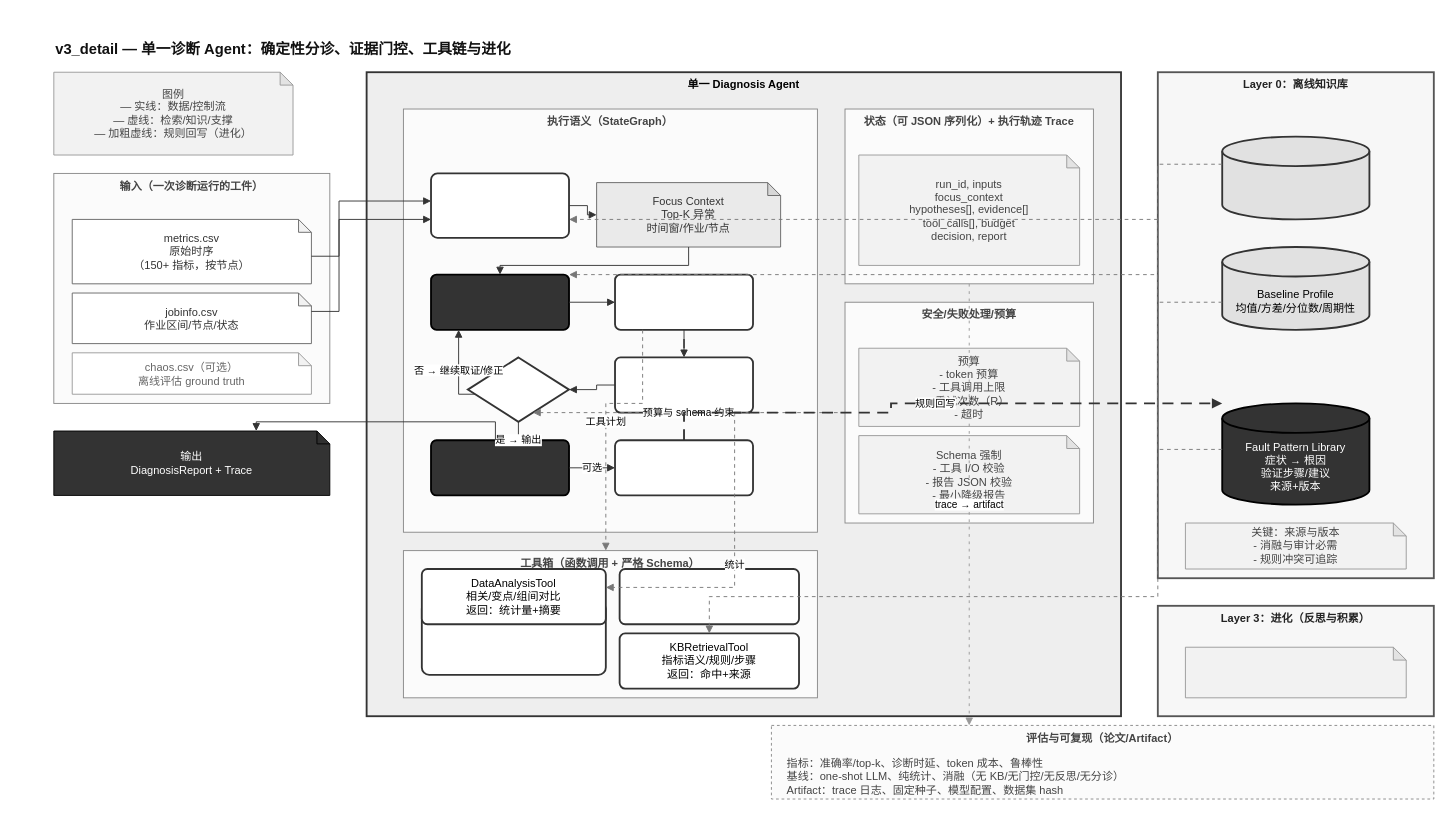
Image size: 1450x815. Some labels were removed from this diagram. Here are the shapes that lost their labels. From the top down, the centre of each, then its label:
At [1295,177]: "Metric KB 指标定义/单位/典型范围 子系统映射".
At [499,205]: "TRIAGE 确定性分诊 生成 Focus Context".
At [499,301]: "HYPOTHESIZE 候选根因 + 验证计划".
At [683,301]: "GATHER 执行工具计划".
At [517,389]: "证据 门控".
At [683,384]: "VERIFY +轻量统计 支持/反证".
At [499,467]: "FINALIZE DiagnosisReport（JSON）".
At [683,467]: "REFLECT 提炼规则 合并入库".
At [708,596]: "MetricQueryTool nodes+metrics+window+agg 返回：聚合/序列".
At [513,637]: "TriageTool 输入：metrics/jobinfo/baseline 输出：focus_context".
At [1295,672]: "回写语义 - 规则提炼 - 冲突消解 - 版本递增".
